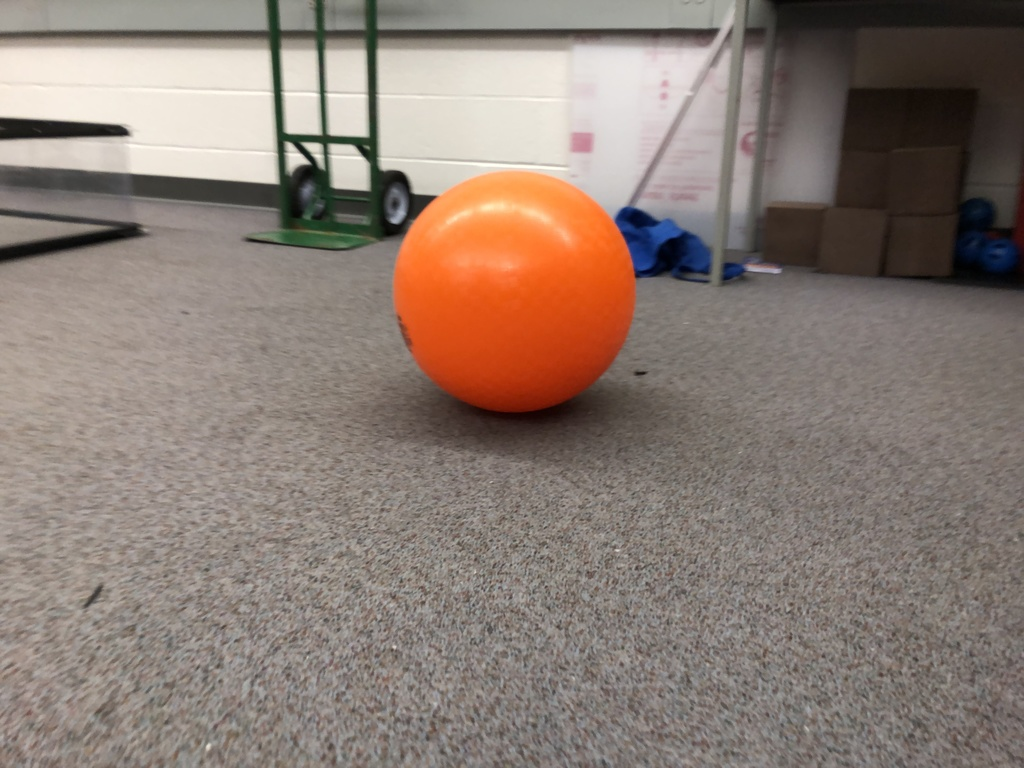cargo: (382, 155, 636, 427)
